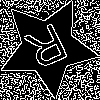R: (23, 22, 75, 79)
